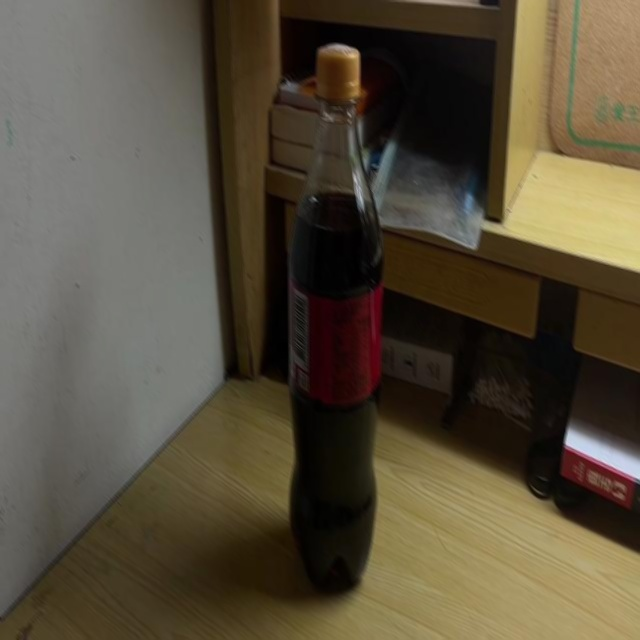Coca-Cola: (287, 45, 383, 587)
